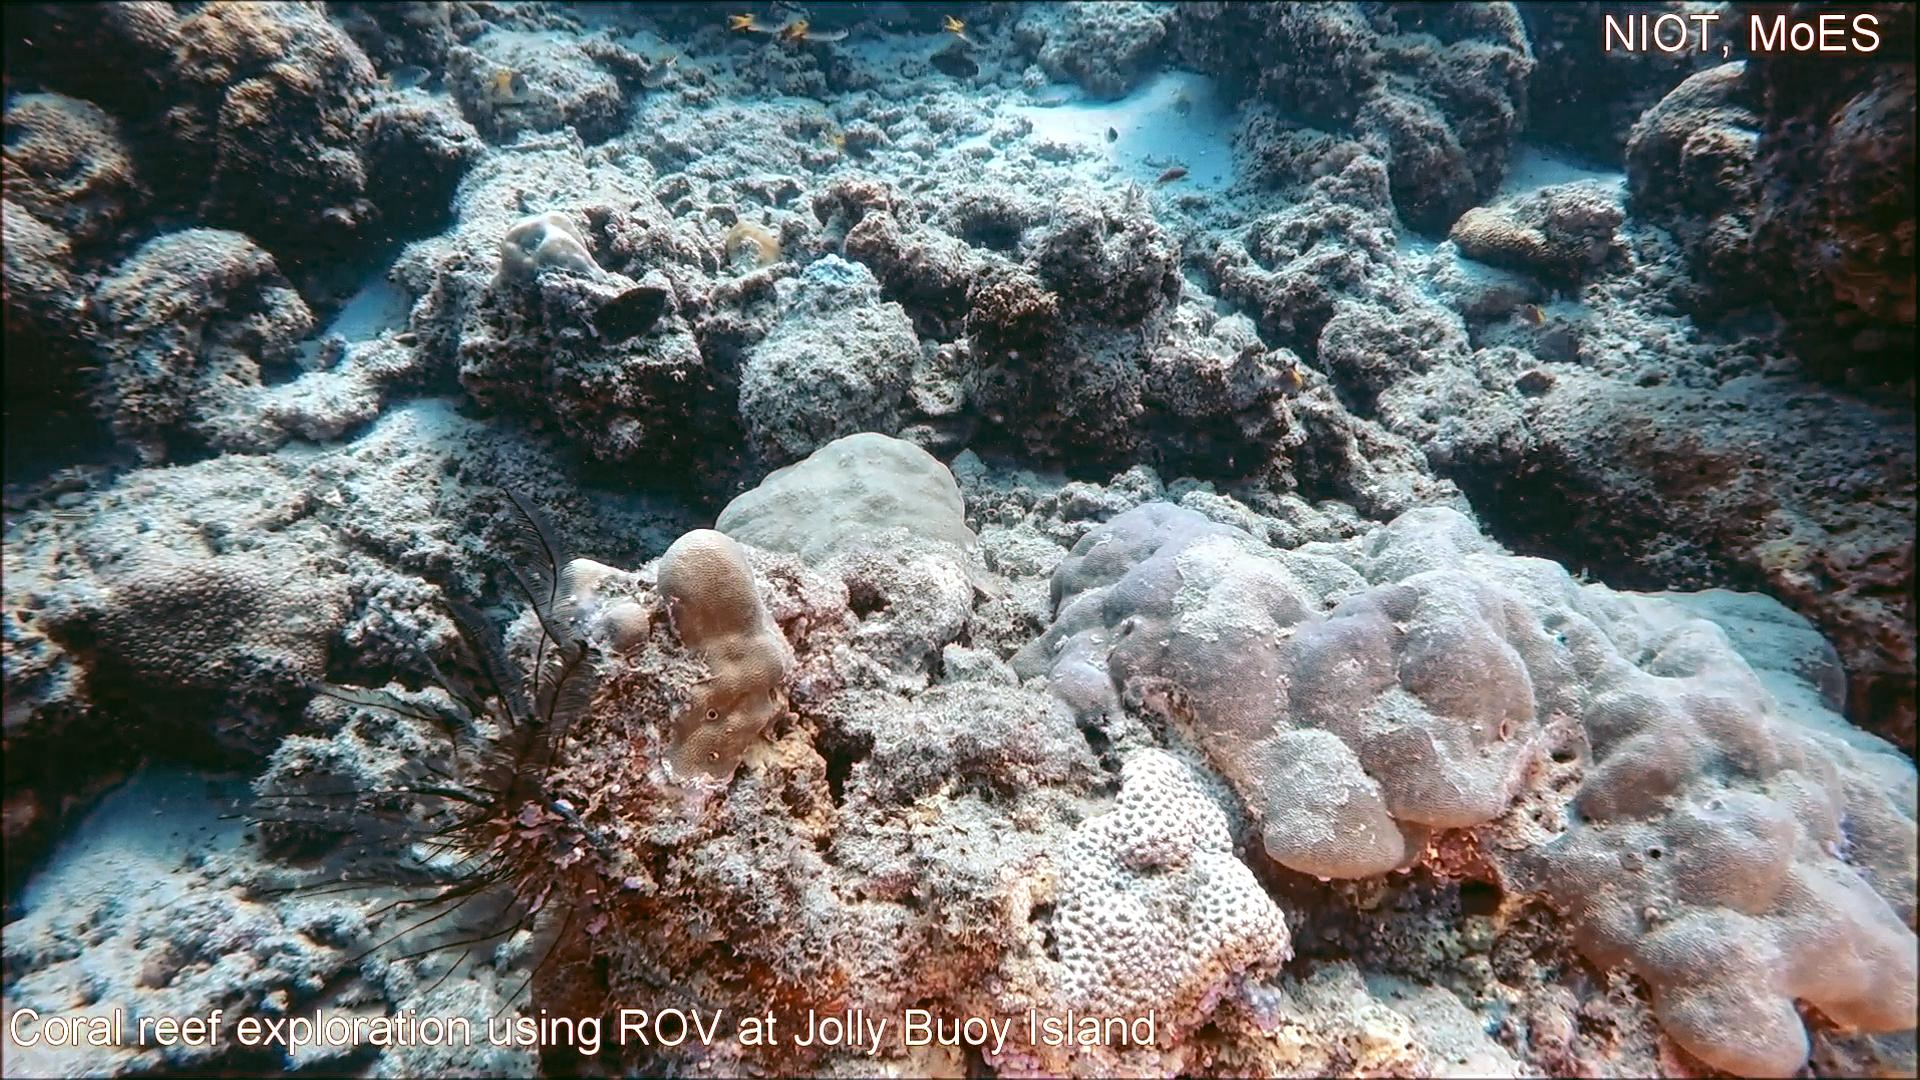Feather star-Crinoid star: (210, 476, 620, 1051)
Goniastrea-Goniastrea pectinata: (1044, 735, 1305, 1052)
Porites-Porites pukoensis: (1390, 496, 1920, 1080)
Turbinaria-Turbinaria stellulata: (86, 549, 365, 717)
